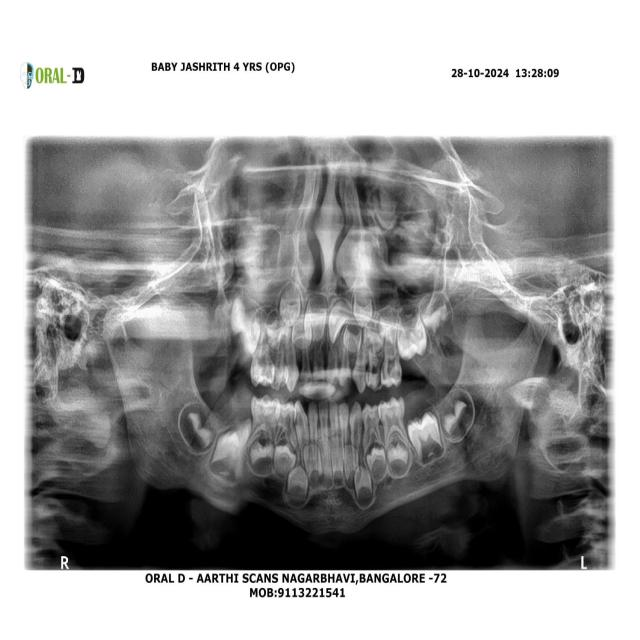Premolars: (361, 399, 385, 457)
